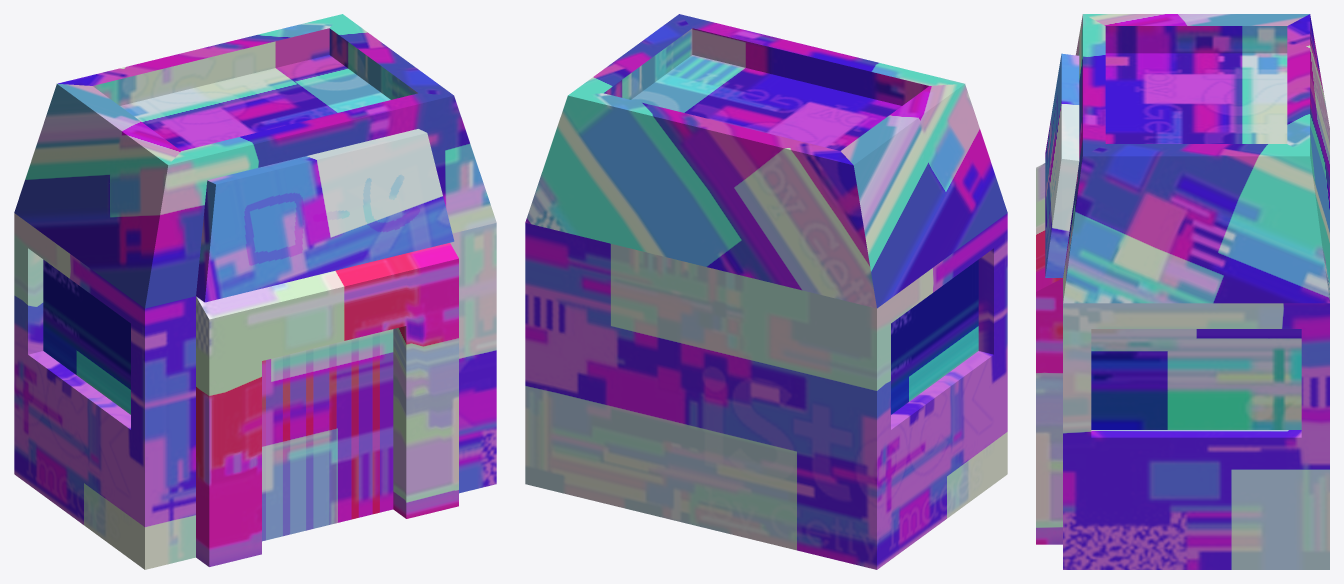
Rendered from Building_6.FBX.
3 views of the same model, side by side, from view 1: azimuth 30°, elevation 25°; view 2: azimuth 150°, elevation 25°; view 3: azimuth 270°, elevation 25° (orthographic).
Parts seen in each view (by area): view 1: Building_6; view 2: Building_6; view 3: Building_6.
Boxes of the visible parts, bbox=[...] form: Building_6: bbox=[14, 14, 496, 569]; Building_6: bbox=[525, 14, 1007, 569]; Building_6: bbox=[1036, 14, 1329, 569].
Size of the model in its own units: 32.82 by 34.72 by 23.28.
